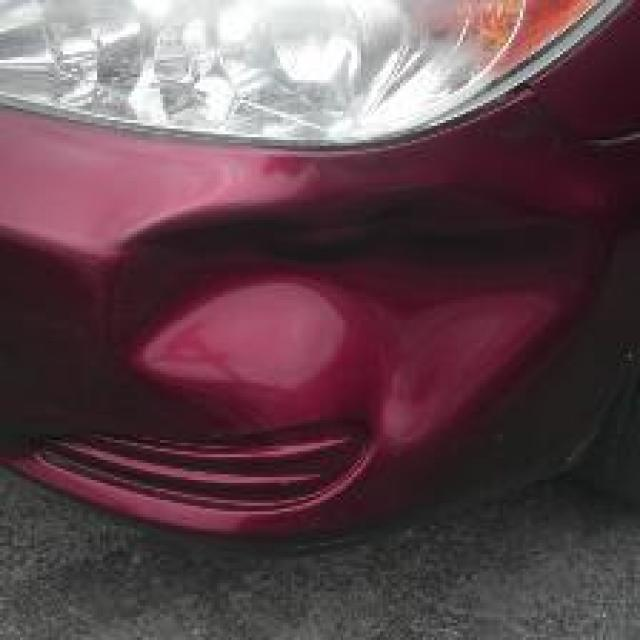damaged: (108, 185, 598, 460)
